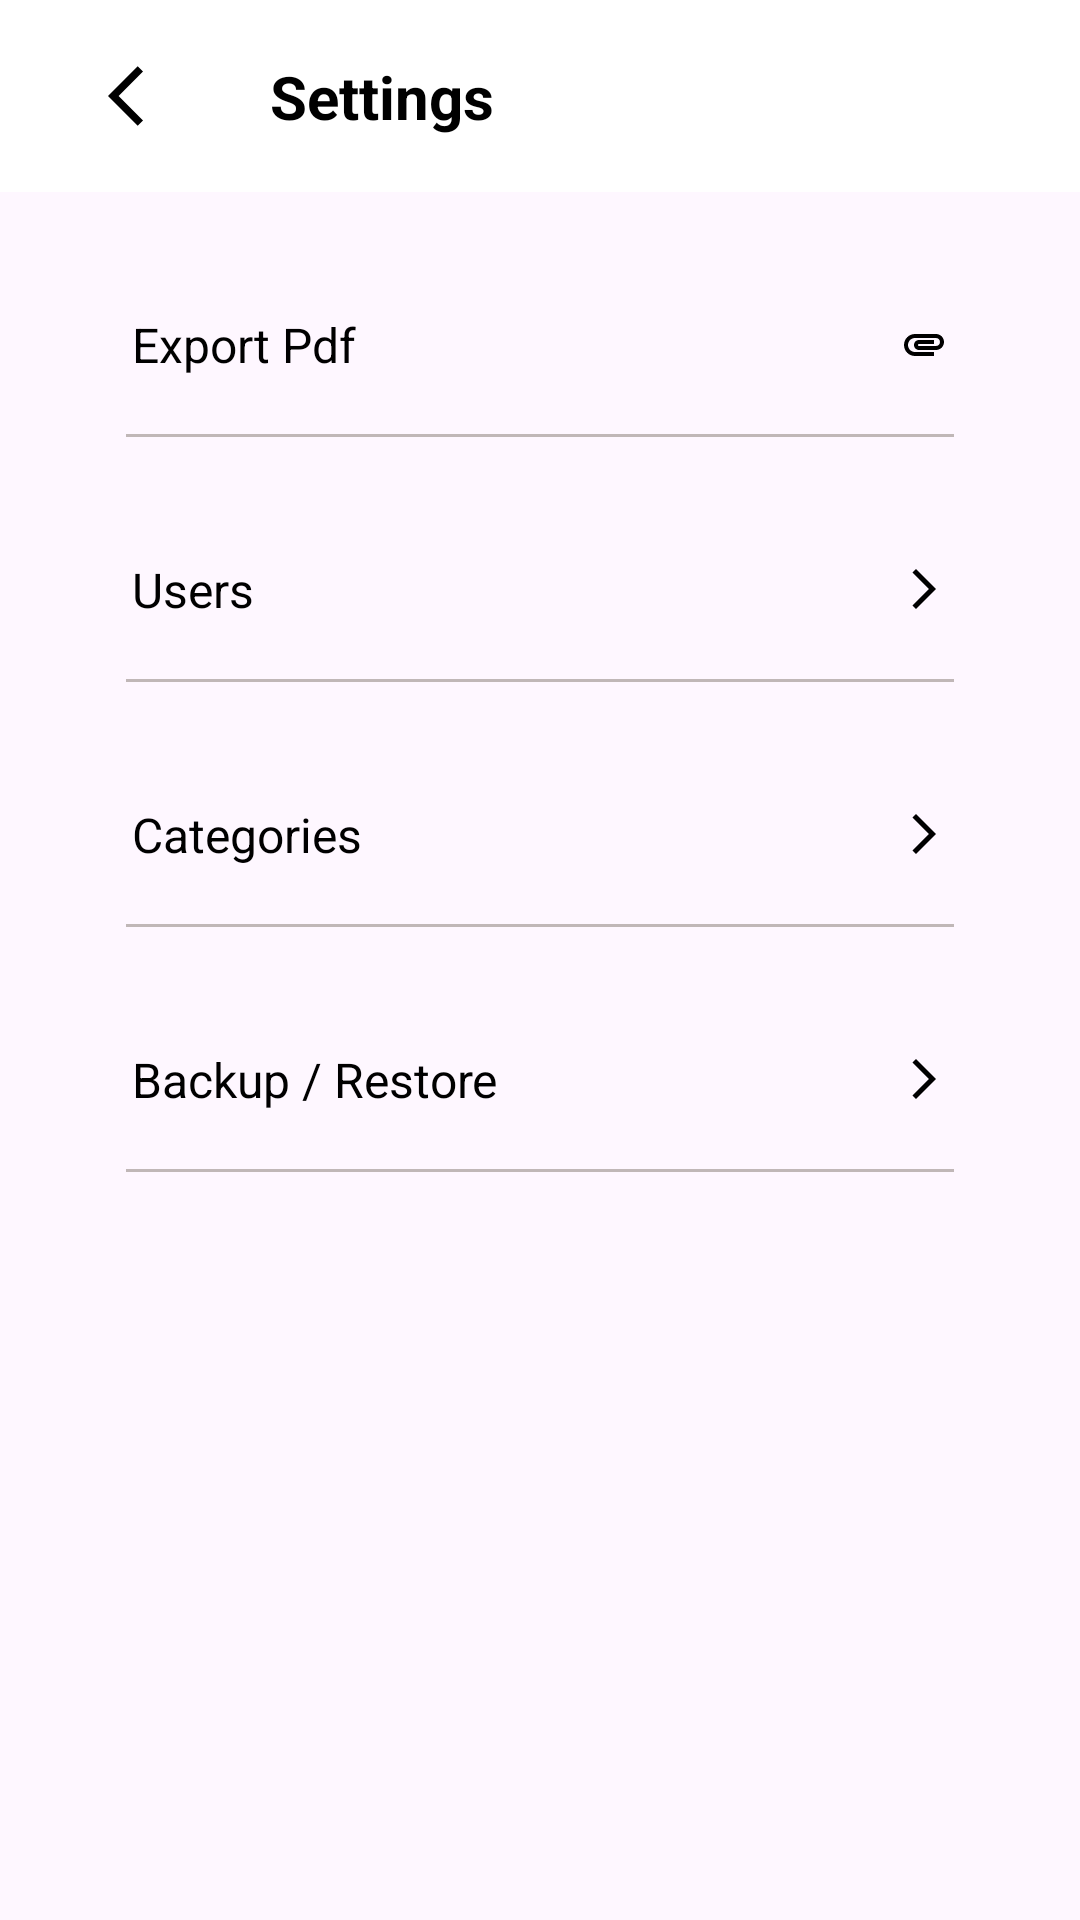

Named icons in this screenshot (1080×1920) and their bounding boxes, {"x1": x1, "y1": y1, "x2": x2, "y2": y2}:
Back: {"x1": 108, "y1": 66, "x2": 143, "y2": 126}
